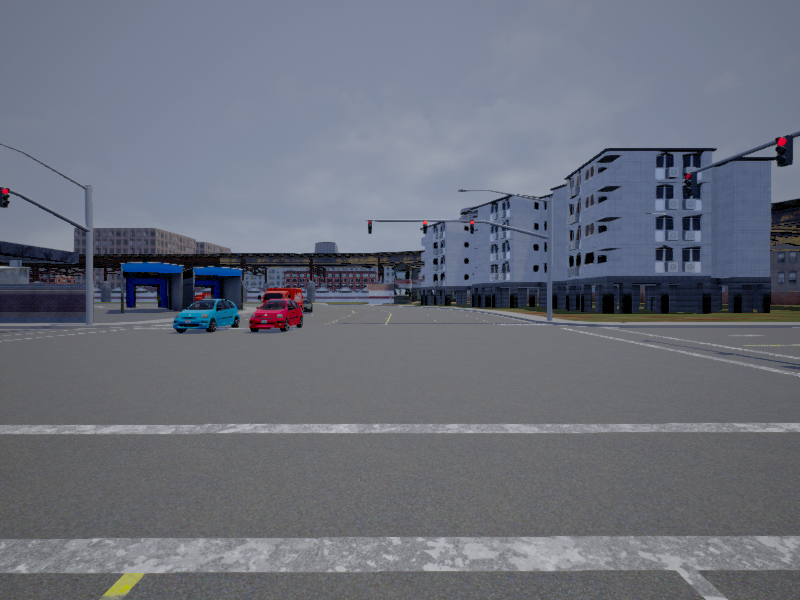Benign: (174, 299, 241, 332), (251, 297, 305, 332), (264, 286, 303, 315)
